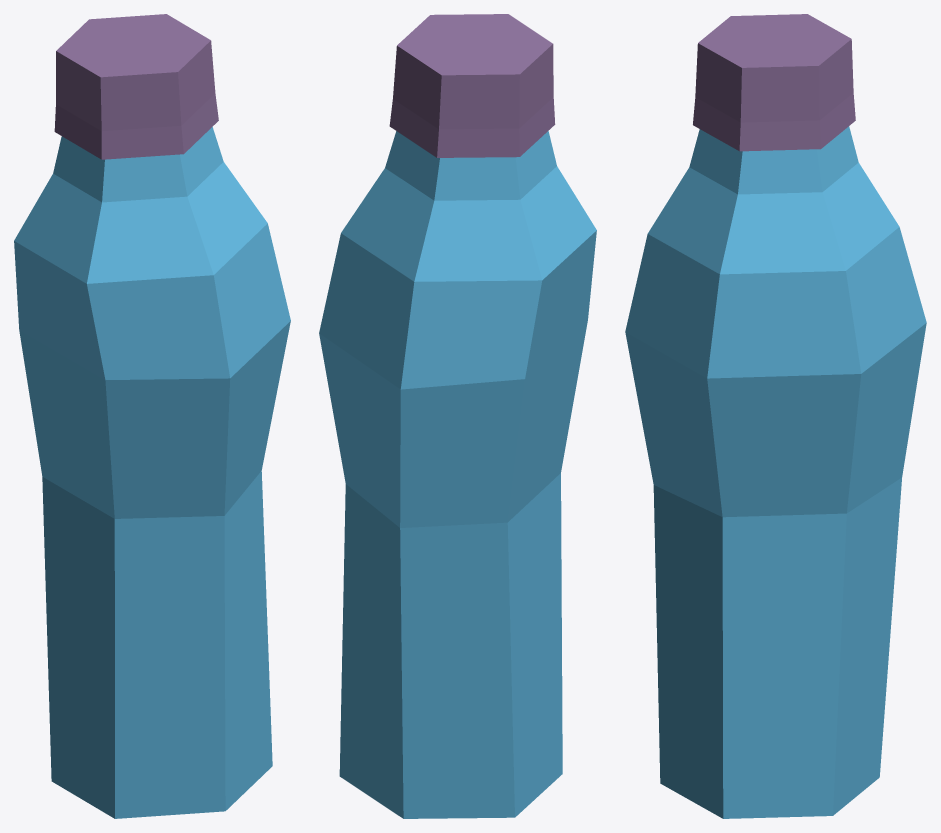
File: Yogaroom_Bottle1.fbx
The picture shows the model from 3 angles, left to right: view 1: azimuth 30°, elevation 25°; view 2: azimuth 150°, elevation 25°; view 3: azimuth 270°, elevation 25°; orthographic projection.
Parts seen in each view (by area): view 1: Yogaroom_Bottle1; view 2: Yogaroom_Bottle1; view 3: Yogaroom_Bottle1.
Part boxes in pixels (x1,y1,x2,y2): Yogaroom_Bottle1: (14, 14, 290, 818); Yogaroom_Bottle1: (319, 14, 596, 818); Yogaroom_Bottle1: (625, 14, 926, 818).
Bounding box in the file's own units: 14.26 × 46.52 × 17.34.
